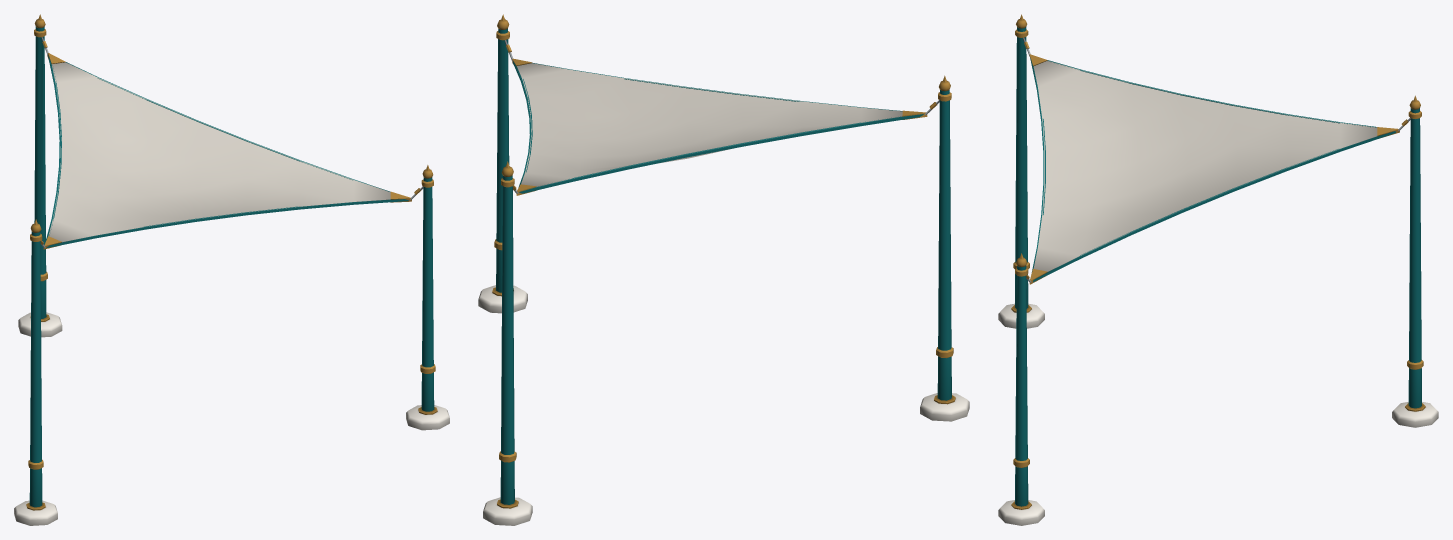
Rendered from shade_sail.fbx.
The picture shows the model from 3 angles, left to right: view 1: azimuth 30°, elevation 25°; view 2: azimuth 150°, elevation 25°; view 3: azimuth 270°, elevation 25°; orthographic projection. The views are drawn at different scales.
Visible parts, largest first — view 1: shade_sail; view 2: shade_sail; view 3: shade_sail.
Boxes of the visible parts, left/top/right/bottom form: shade_sail: left=14, top=14, right=449, bottom=525; shade_sail: left=478, top=14, right=969, bottom=525; shade_sail: left=998, top=14, right=1438, bottom=525.
Size of the model in its own units: 5.47 by 3.81 by 4.71.
